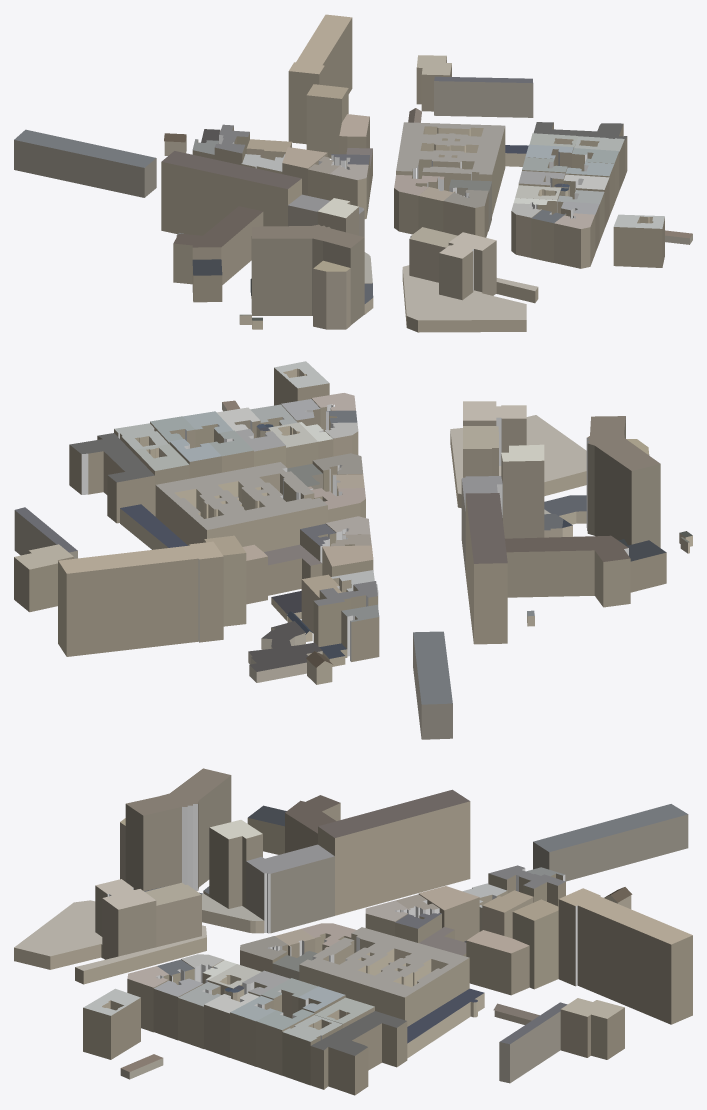
The picture shows the model from 3 angles, top to bottom: view 1: azimuth 30°, elevation 25°; view 2: azimuth 150°, elevation 25°; view 3: azimuth 270°, elevation 25°; orthographic projection. The views are drawn at different scales.
Visible parts, largest first — view 1: tuile; view 2: tuile; view 3: tuile.
Boxes of the visible parts, box(x1,y1,x2,y2) form: tuile: box(14, 14, 692, 332); tuile: box(14, 361, 692, 739); tuile: box(14, 768, 692, 1095).
Bounding box in the file's own units: 282 × 46.05 × 312.
